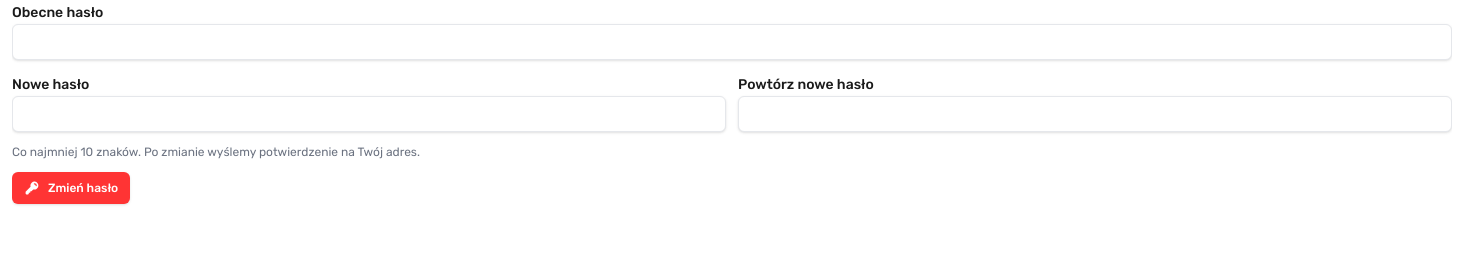
Test case: PasswordForm › NIE woła serwera, gdy powtorzenie sie nie zgadza
The image size is (1464, 254).
Type "stare-haslo-1" into the password field labelled "Obecne hasło".
click(732, 42); type("stare-haslo-1")  # box top-left (12, 24), bottom-right (1452, 60)
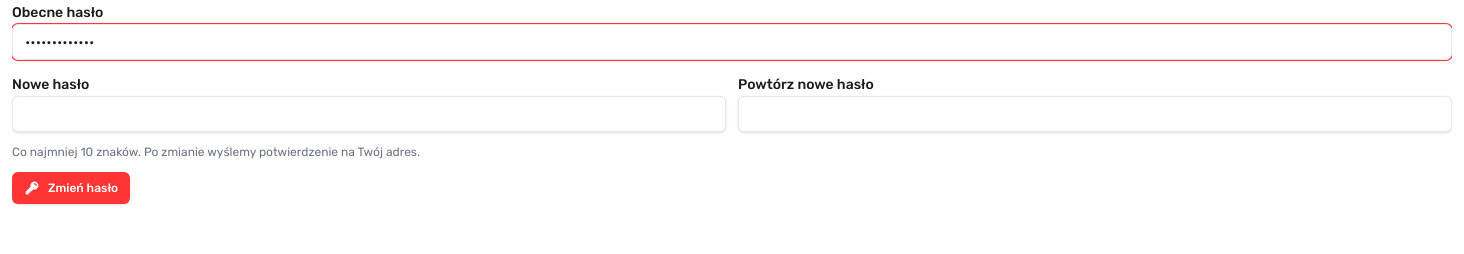
Type "nowe-haslo-2026" into the password field labelled "Nowe hasło".
click(369, 114); type("nowe-haslo-2026")  # box top-left (12, 96), bottom-right (726, 132)
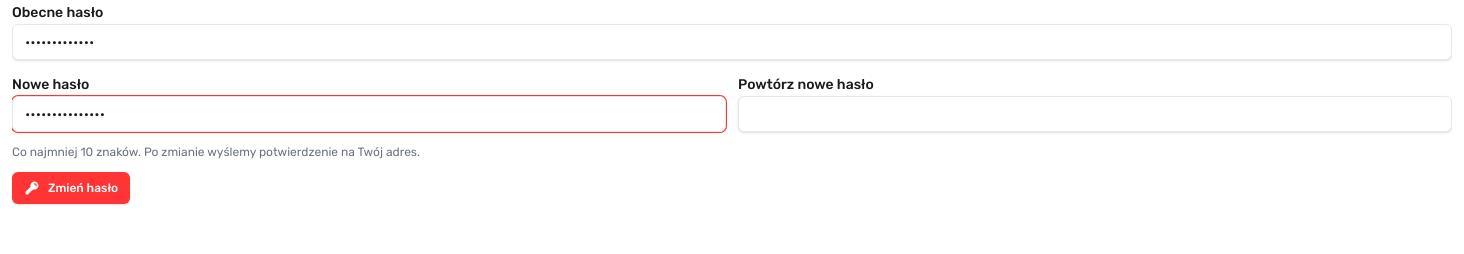
Type "inne-haslo-2026" into the password field labelled "Powtórz nowe hasło".
click(1095, 114); type("inne-haslo-2026")  # box top-left (738, 96), bottom-right (1452, 132)
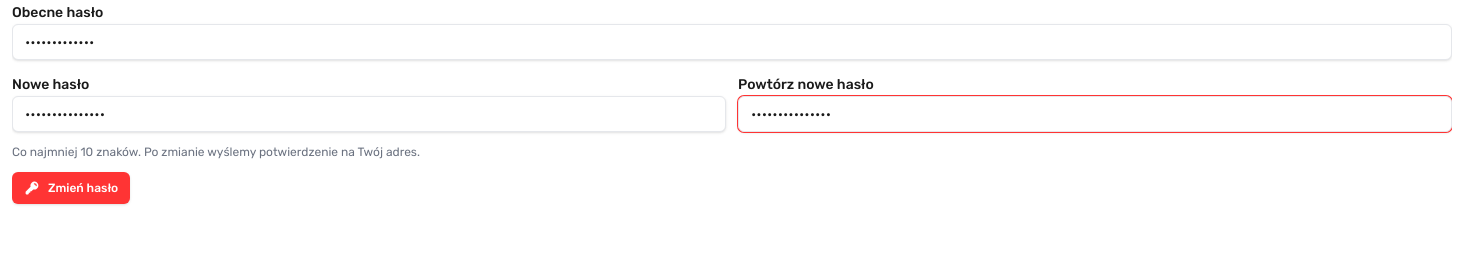
Click the button "Zmień hasło".
click(71, 188)  # box top-left (12, 172), bottom-right (130, 204)
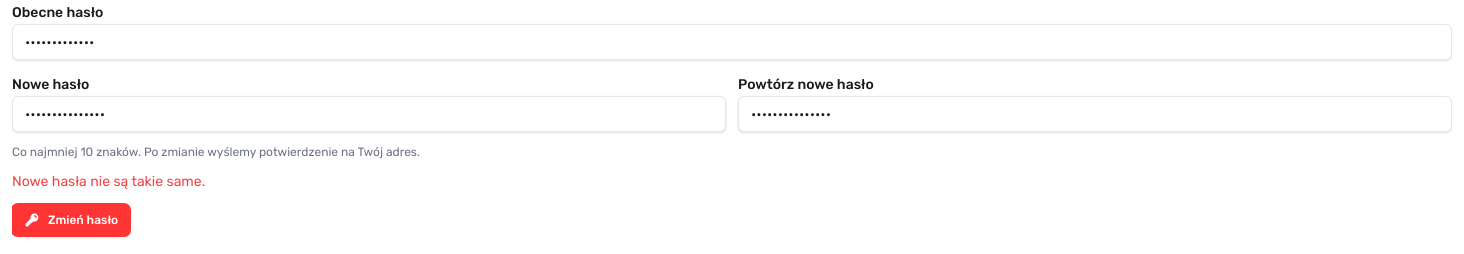
Now the text "Nowe hasła nie są takie same." is shown, box top-left (12, 173), bottom-right (205, 190)
